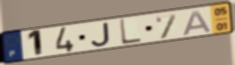1: (26, 29, 45, 58)
4: (54, 26, 76, 54)
7: (155, 12, 179, 40)
A: (181, 9, 213, 37)
J: (90, 21, 112, 48)
L: (118, 18, 143, 47)
